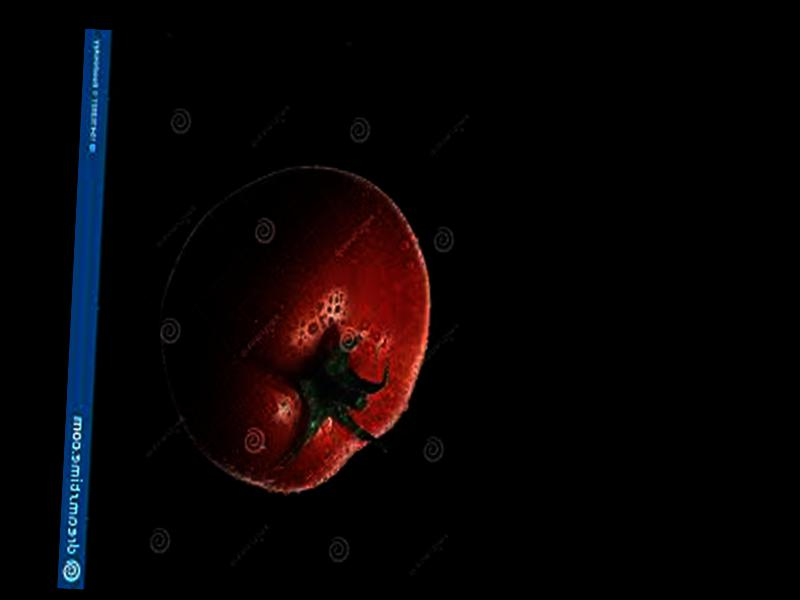Tomato: (154, 156, 438, 500)
